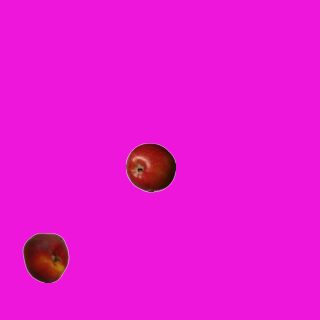Apple Braeburn: (125, 142, 175, 192)
Nectarine Flat: (20, 232, 70, 282)
